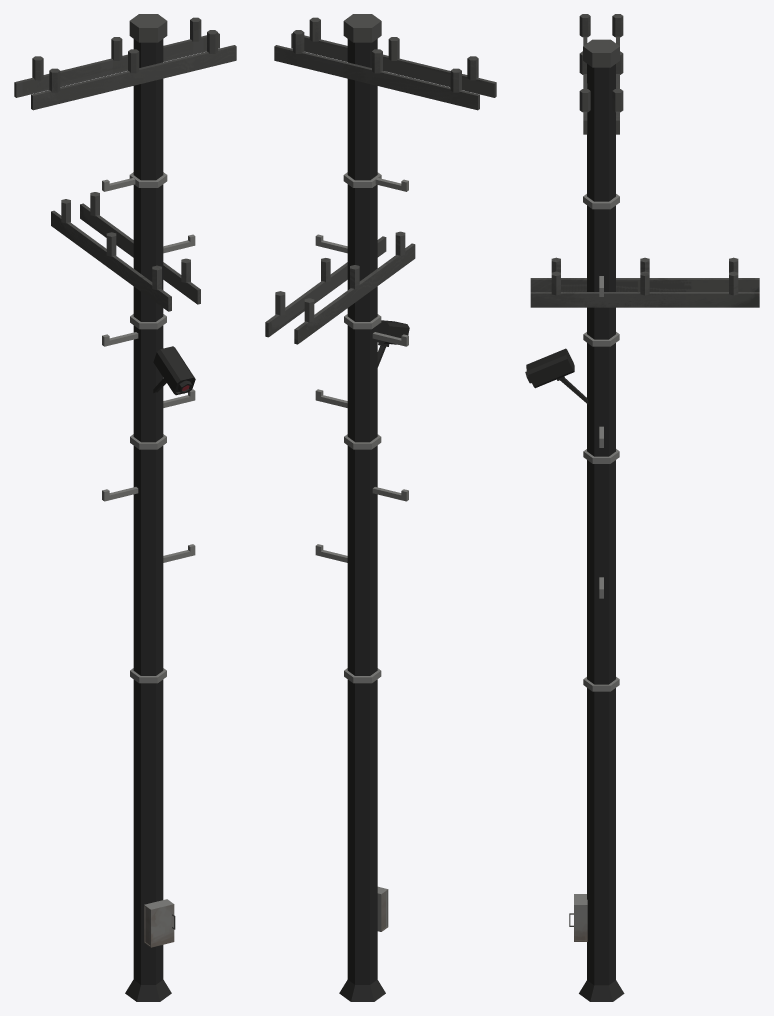
Rendered from P_UTILITY POLE.fbx.
3 renders of one model, left to right at view 1: azimuth 30°, elevation 25°; view 2: azimuth 150°, elevation 25°; view 3: azimuth 270°, elevation 25°, orthographic. The views are drawn at different scales.
Visible parts, largest first — view 1: Utility_Pole.001; view 2: Utility_Pole.001; view 3: Utility_Pole.001.
Part boxes in pixels (x1,y1,x2,y2): Utility_Pole.001: (14,14,236,1001); Utility_Pole.001: (265,14,496,1001); Utility_Pole.001: (525,14,759,1001).
Size of the model in its own units: 355 by 1618 by 363.
